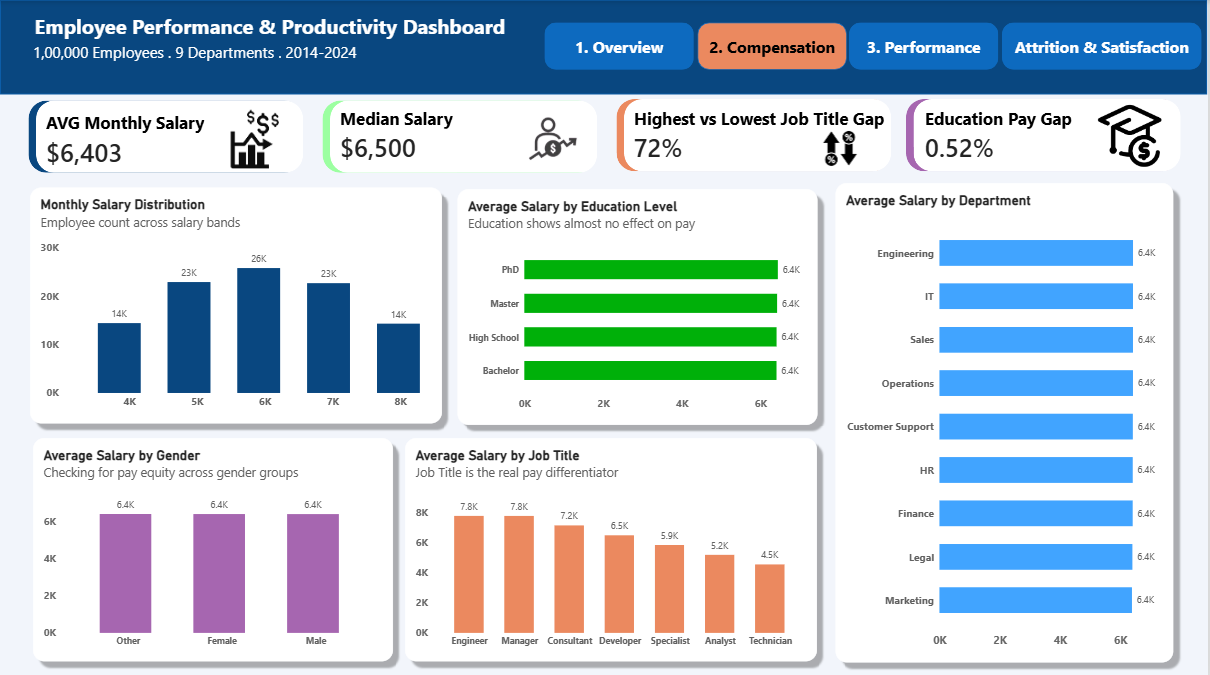

This screenshot's page, from the dashboard's own definition file:
{"tool":"powerbi","page":{"name":"Page 2","canvas":[1920,1080],"ordinal":1},"visuals":[{"type":"shape","box":[0,0,1920,150],"z":0},{"type":"shape","box":[45.7,159.6,435,115],"z":0,"group":"g1"},{"type":"textbox","box":[55,20,920,70],"z":1000},{"type":"shape","box":[58.2,159.6,425,115],"z":1000,"group":"g1"},{"type":"textbox","box":[52.5,67.5,827.5,80],"z":2000},{"type":"shape","box":[512.6,160,435,115],"z":2000,"group":"g1"},{"type":"shape","box":[866.2,35,237.5,75],"z":3000},{"type":"shape","box":[525.1,160,425,115],"z":3000,"group":"g1"},{"type":"shape","box":[1108.8,35,237.5,75],"z":4000},{"type":"shape","box":[980.2,158.2,435,115],"z":4000,"group":"g1"},{"type":"shape","box":[1351.2,35,237.5,75],"z":5000},{"type":"shape","box":[993.2,157.9,425,115],"z":5000,"group":"g1"},{"type":"shape","box":[1593.8,35,317.5,75],"z":6000},{"type":"shape","box":[1442.1,157.9,435,115],"z":6000,"group":"g1"},{"type":"group","id":"g1","title":"Group 1","box":[45.7,157.9,1833.9,117.1],"z":7000},{"type":"shape","box":[1454.6,157.9,425,115],"z":7000,"group":"g1"},{"type":"cardVisual","fields":{"Data":["Extended_Employee_Performance_and_Productivity_Data.AVG Monthly Salary"]},"box":[57.5,147.5,365,150],"z":8000},{"type":"cardVisual","fields":{"Data":["Extended_Employee_Performance_and_Productivity_Data.Median Salary"]},"box":[525,140,365,150],"z":9000},{"type":"cardVisual","fields":{"Data":["Extended_Employee_Performance_and_Productivity_Data.Highest vs Lowest Job Title Gap"]},"box":[992.5,140,450,150],"z":10000},{"type":"cardVisual","fields":{"Data":["Extended_Employee_Performance_and_Productivity_Data.Education Pay Gap"]},"box":[1455,140,365,150],"z":11000},{"type":"columnChart","title":"Monthly Salary Distribution","fields":{"Y":["CountNonNull(Extended_Employee_Performance_and_Productivity_Data.Employee_ID)"],"Category":["Extended_Employee_Performance_and_Productivity_Data.Monthly_Salary (bins)"]},"box":[47.5,297.5,655,375],"z":12000},{"type":"clusteredBarChart","title":"Average Salary by Department","fields":{"Category":["Extended_Employee_Performance_and_Productivity_Data.Department"],"Y":["Avg(Extended_Employee_Performance_and_Productivity_Data.Monthly_Salary)"]},"box":[1330,290,537.5,762.5],"z":13000},{"type":"columnChart","title":"Average Salary by Job Title","fields":{"Category":["Extended_Employee_Performance_and_Productivity_Data.Job_Title"],"Y":["Avg(Extended_Employee_Performance_and_Productivity_Data.Monthly_Salary)"]},"box":[645,697.5,655,355],"z":14000},{"type":"clusteredBarChart","title":"Average Salary by Education Level","fields":{"Category":["Extended_Employee_Performance_and_Productivity_Data.Education_Level"],"Y":["Avg(Extended_Employee_Performance_and_Productivity_Data.Monthly_Salary)"]},"box":[727.5,300,572.5,375],"z":15000},{"type":"columnChart","title":"Average Salary by Gender","fields":{"Category":["Extended_Employee_Performance_and_Productivity_Data.Gender"],"Y":["Avg(Extended_Employee_Performance_and_Productivity_Data.Monthly_Salary)"]},"box":[52.5,697.5,572.5,355],"z":16000},{"type":"image","box":[1710,160,172.5,110],"z":17000},{"type":"image","box":[1250,185,172.5,100],"z":18000},{"type":"image","box":[742.5,140,275,160],"z":19000},{"type":"image","box":[285,142.5,242.5,137.5],"z":20000}]}

Visuals, with their boxes in screenshot pixels (x1, y1, x2, y2), scaled from the page's 1920x1080 canvas onto the 1210x675 screenshot:
shape: rect(0, 0, 1209, 94)
shape: rect(29, 100, 303, 172)
textbox: rect(35, 12, 614, 56)
shape: rect(37, 100, 305, 172)
textbox: rect(33, 42, 555, 92)
shape: rect(323, 100, 597, 172)
shape: rect(546, 22, 696, 69)
shape: rect(331, 100, 599, 172)
shape: rect(699, 22, 848, 69)
shape: rect(618, 99, 892, 171)
shape: rect(852, 22, 1001, 69)
shape: rect(626, 99, 894, 171)
shape: rect(1004, 22, 1205, 69)
shape: rect(909, 99, 1183, 171)
"Group 1" group: rect(29, 99, 1185, 172)
shape: rect(917, 99, 1185, 171)
cardVisual - Extended_Employee_Performance_and_Productivity_Data.AVG Monthly Salary: rect(36, 92, 266, 186)
cardVisual - Extended_Employee_Performance_and_Productivity_Data.Median Salary: rect(331, 88, 561, 181)
cardVisual - Extended_Employee_Performance_and_Productivity_Data.Highest vs Lowest Job Title Gap: rect(625, 88, 909, 181)
cardVisual - Extended_Employee_Performance_and_Productivity_Data.Education Pay Gap: rect(917, 88, 1147, 181)
"Monthly Salary Distribution" columnChart: rect(30, 186, 443, 420)
"Average Salary by Department" clusteredBarChart: rect(838, 181, 1177, 658)
"Average Salary by Job Title" columnChart: rect(406, 436, 819, 658)
"Average Salary by Education Level" clusteredBarChart: rect(458, 188, 819, 422)
"Average Salary by Gender" columnChart: rect(33, 436, 394, 658)
image: rect(1078, 100, 1186, 169)
image: rect(788, 116, 896, 178)
image: rect(468, 88, 641, 188)
image: rect(180, 89, 332, 175)
